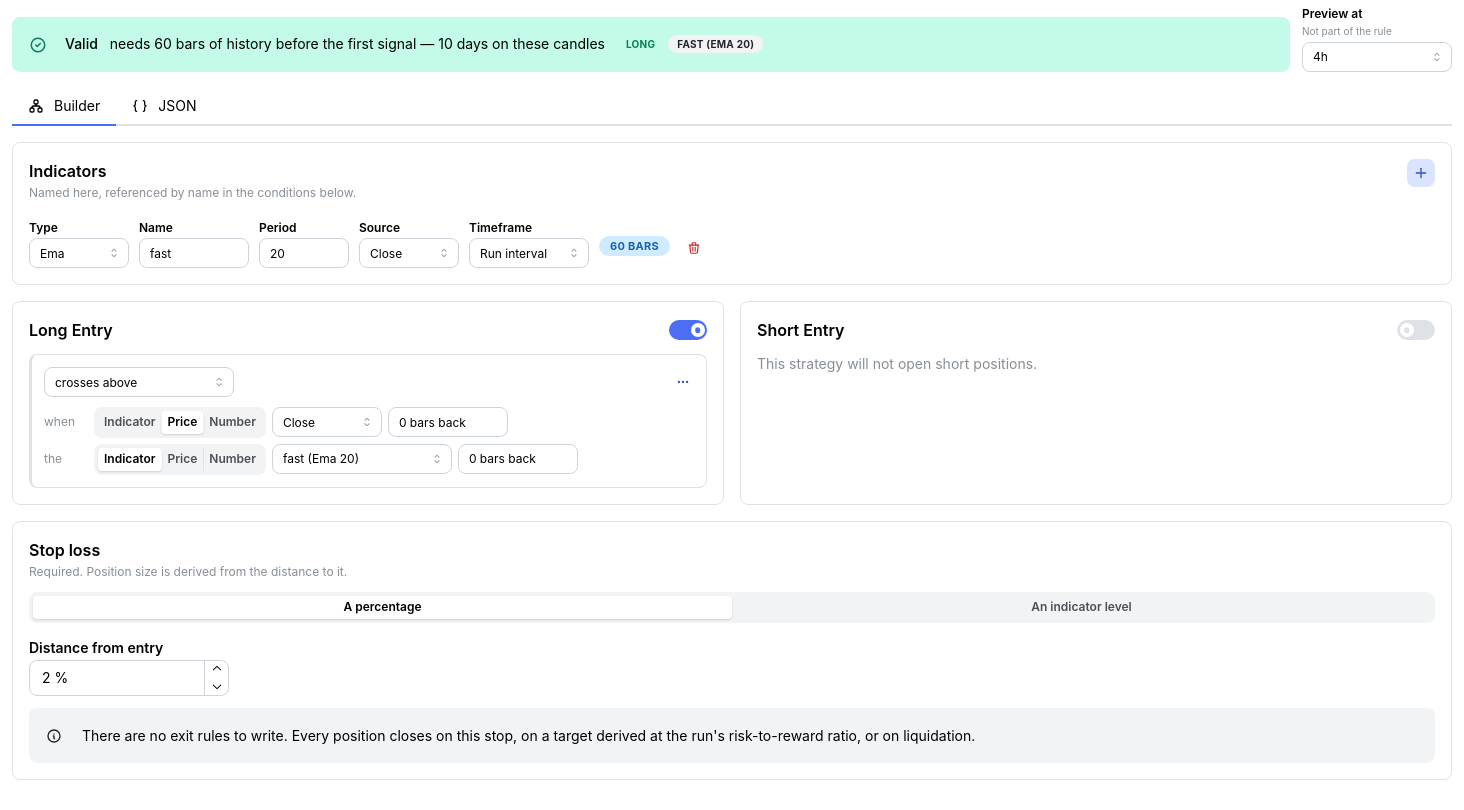
Test case: the per-indicator timeframe › marks a timeframe the previewed run interval cannot build
The width and height of the screenshot is (1464, 810).
Expected: the dropdown labelled "Preview at" is shown, [1302,42,1452,72]
Click the dropdown labelled "Timeframe": click(529, 253) [469,238,589,268]
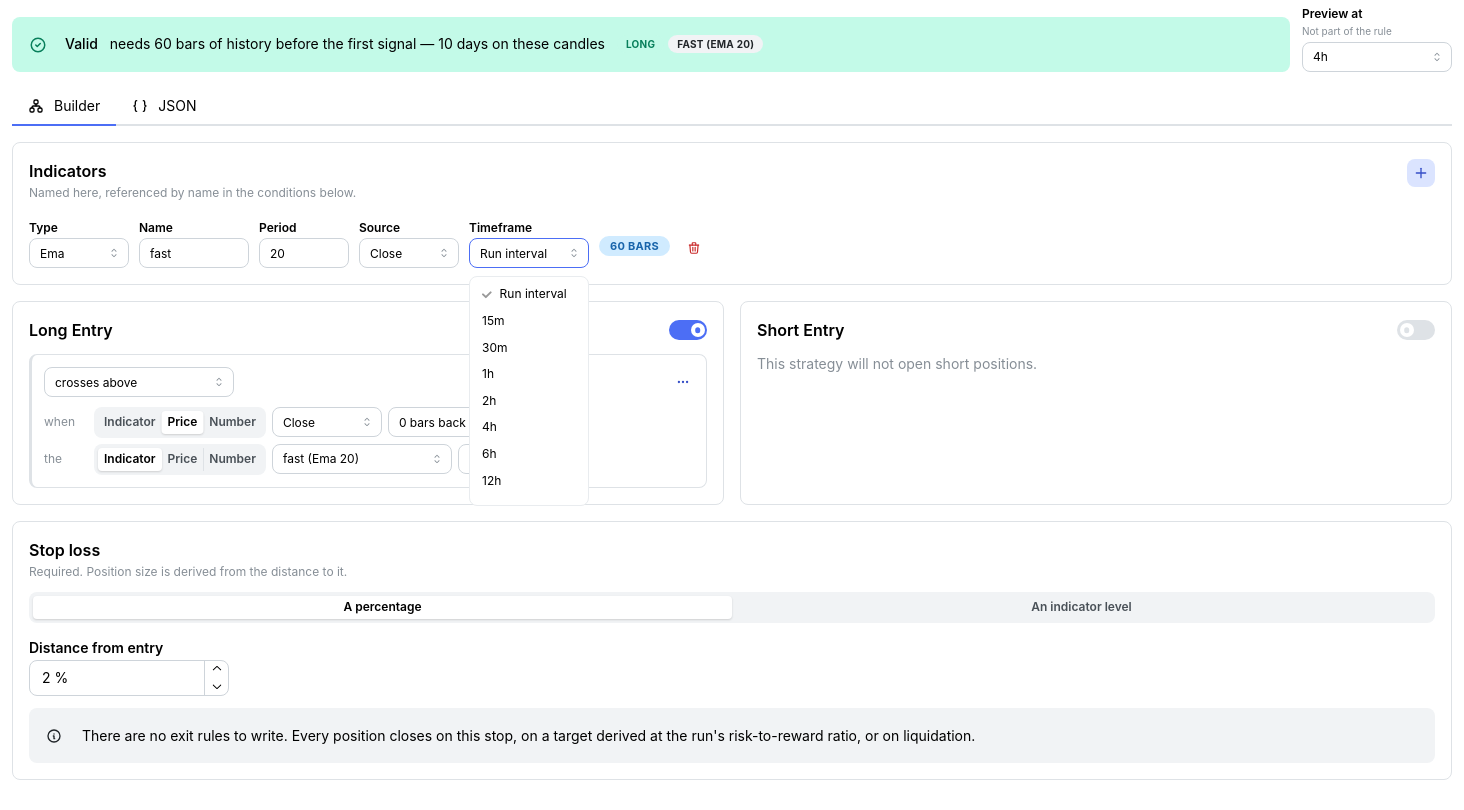
Click the option "6h": click(489, 454) [482,446,496,461]
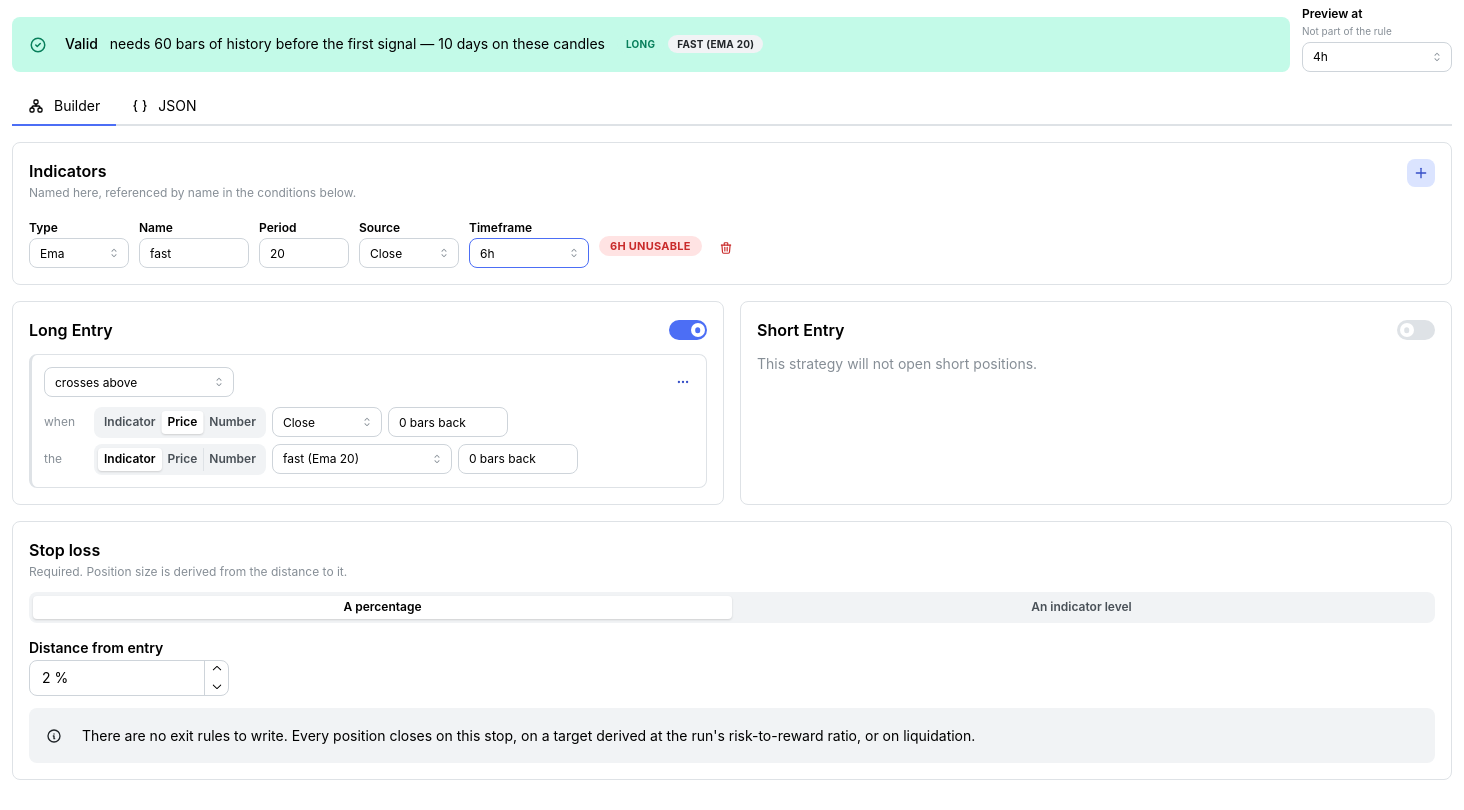
Now the text "6h unusable" is shown, box [610,237,691,255]
